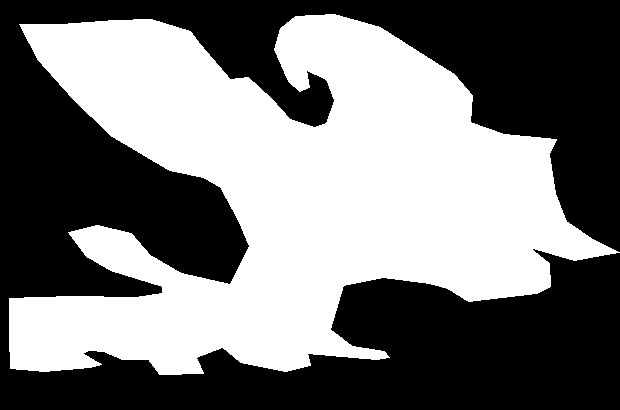type2: (3, 18, 620, 378)
